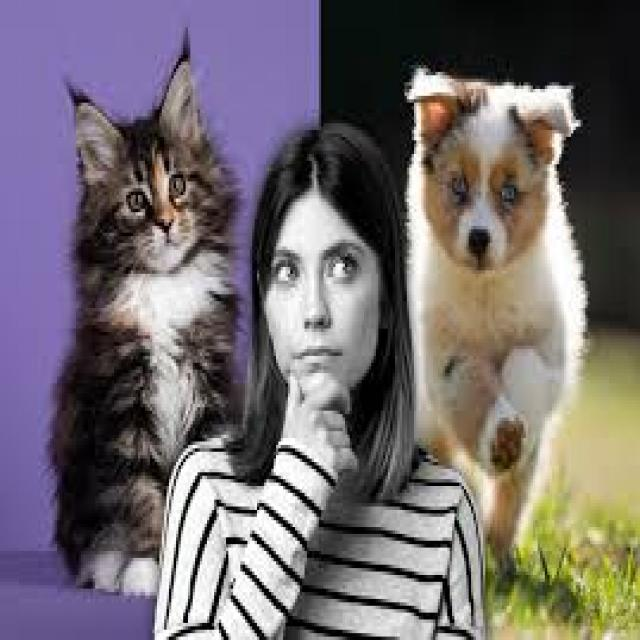cat: (49, 46, 256, 598)
dog: (397, 47, 602, 563)
